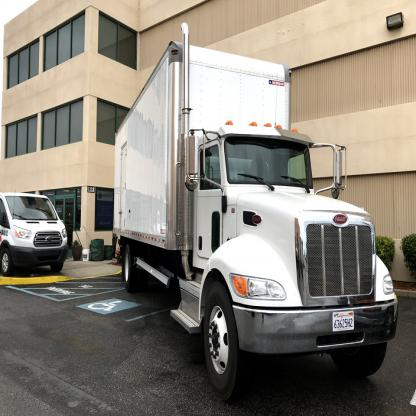normal-truck: (108, 46, 386, 381)
